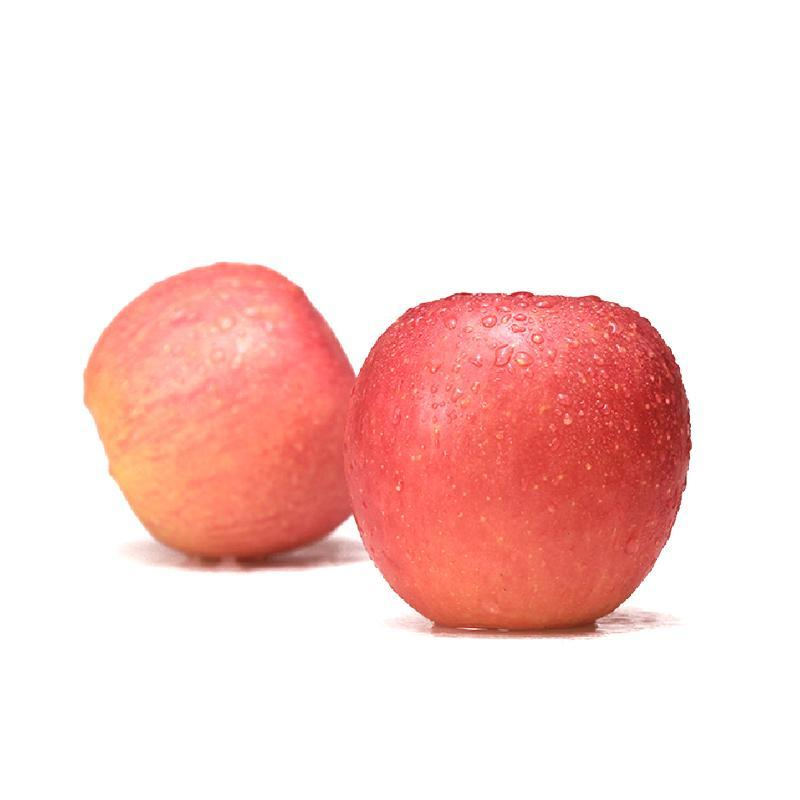apple: (349, 294, 694, 634), (84, 260, 365, 562)
